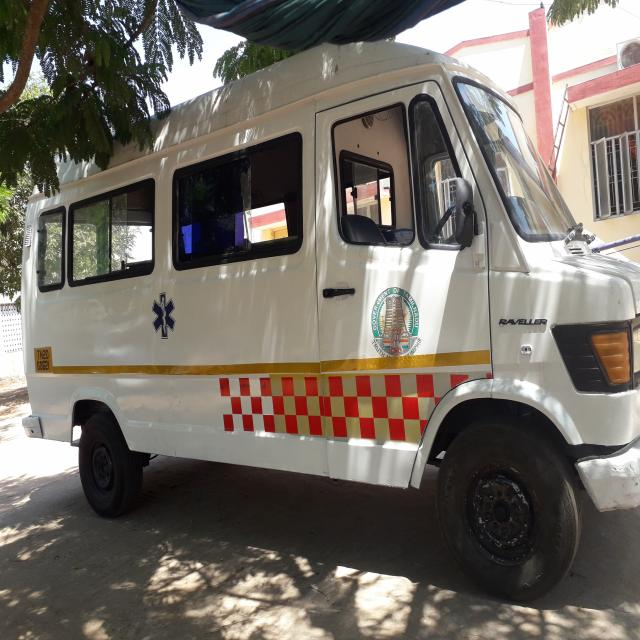Bus: (37, 2, 456, 640)
